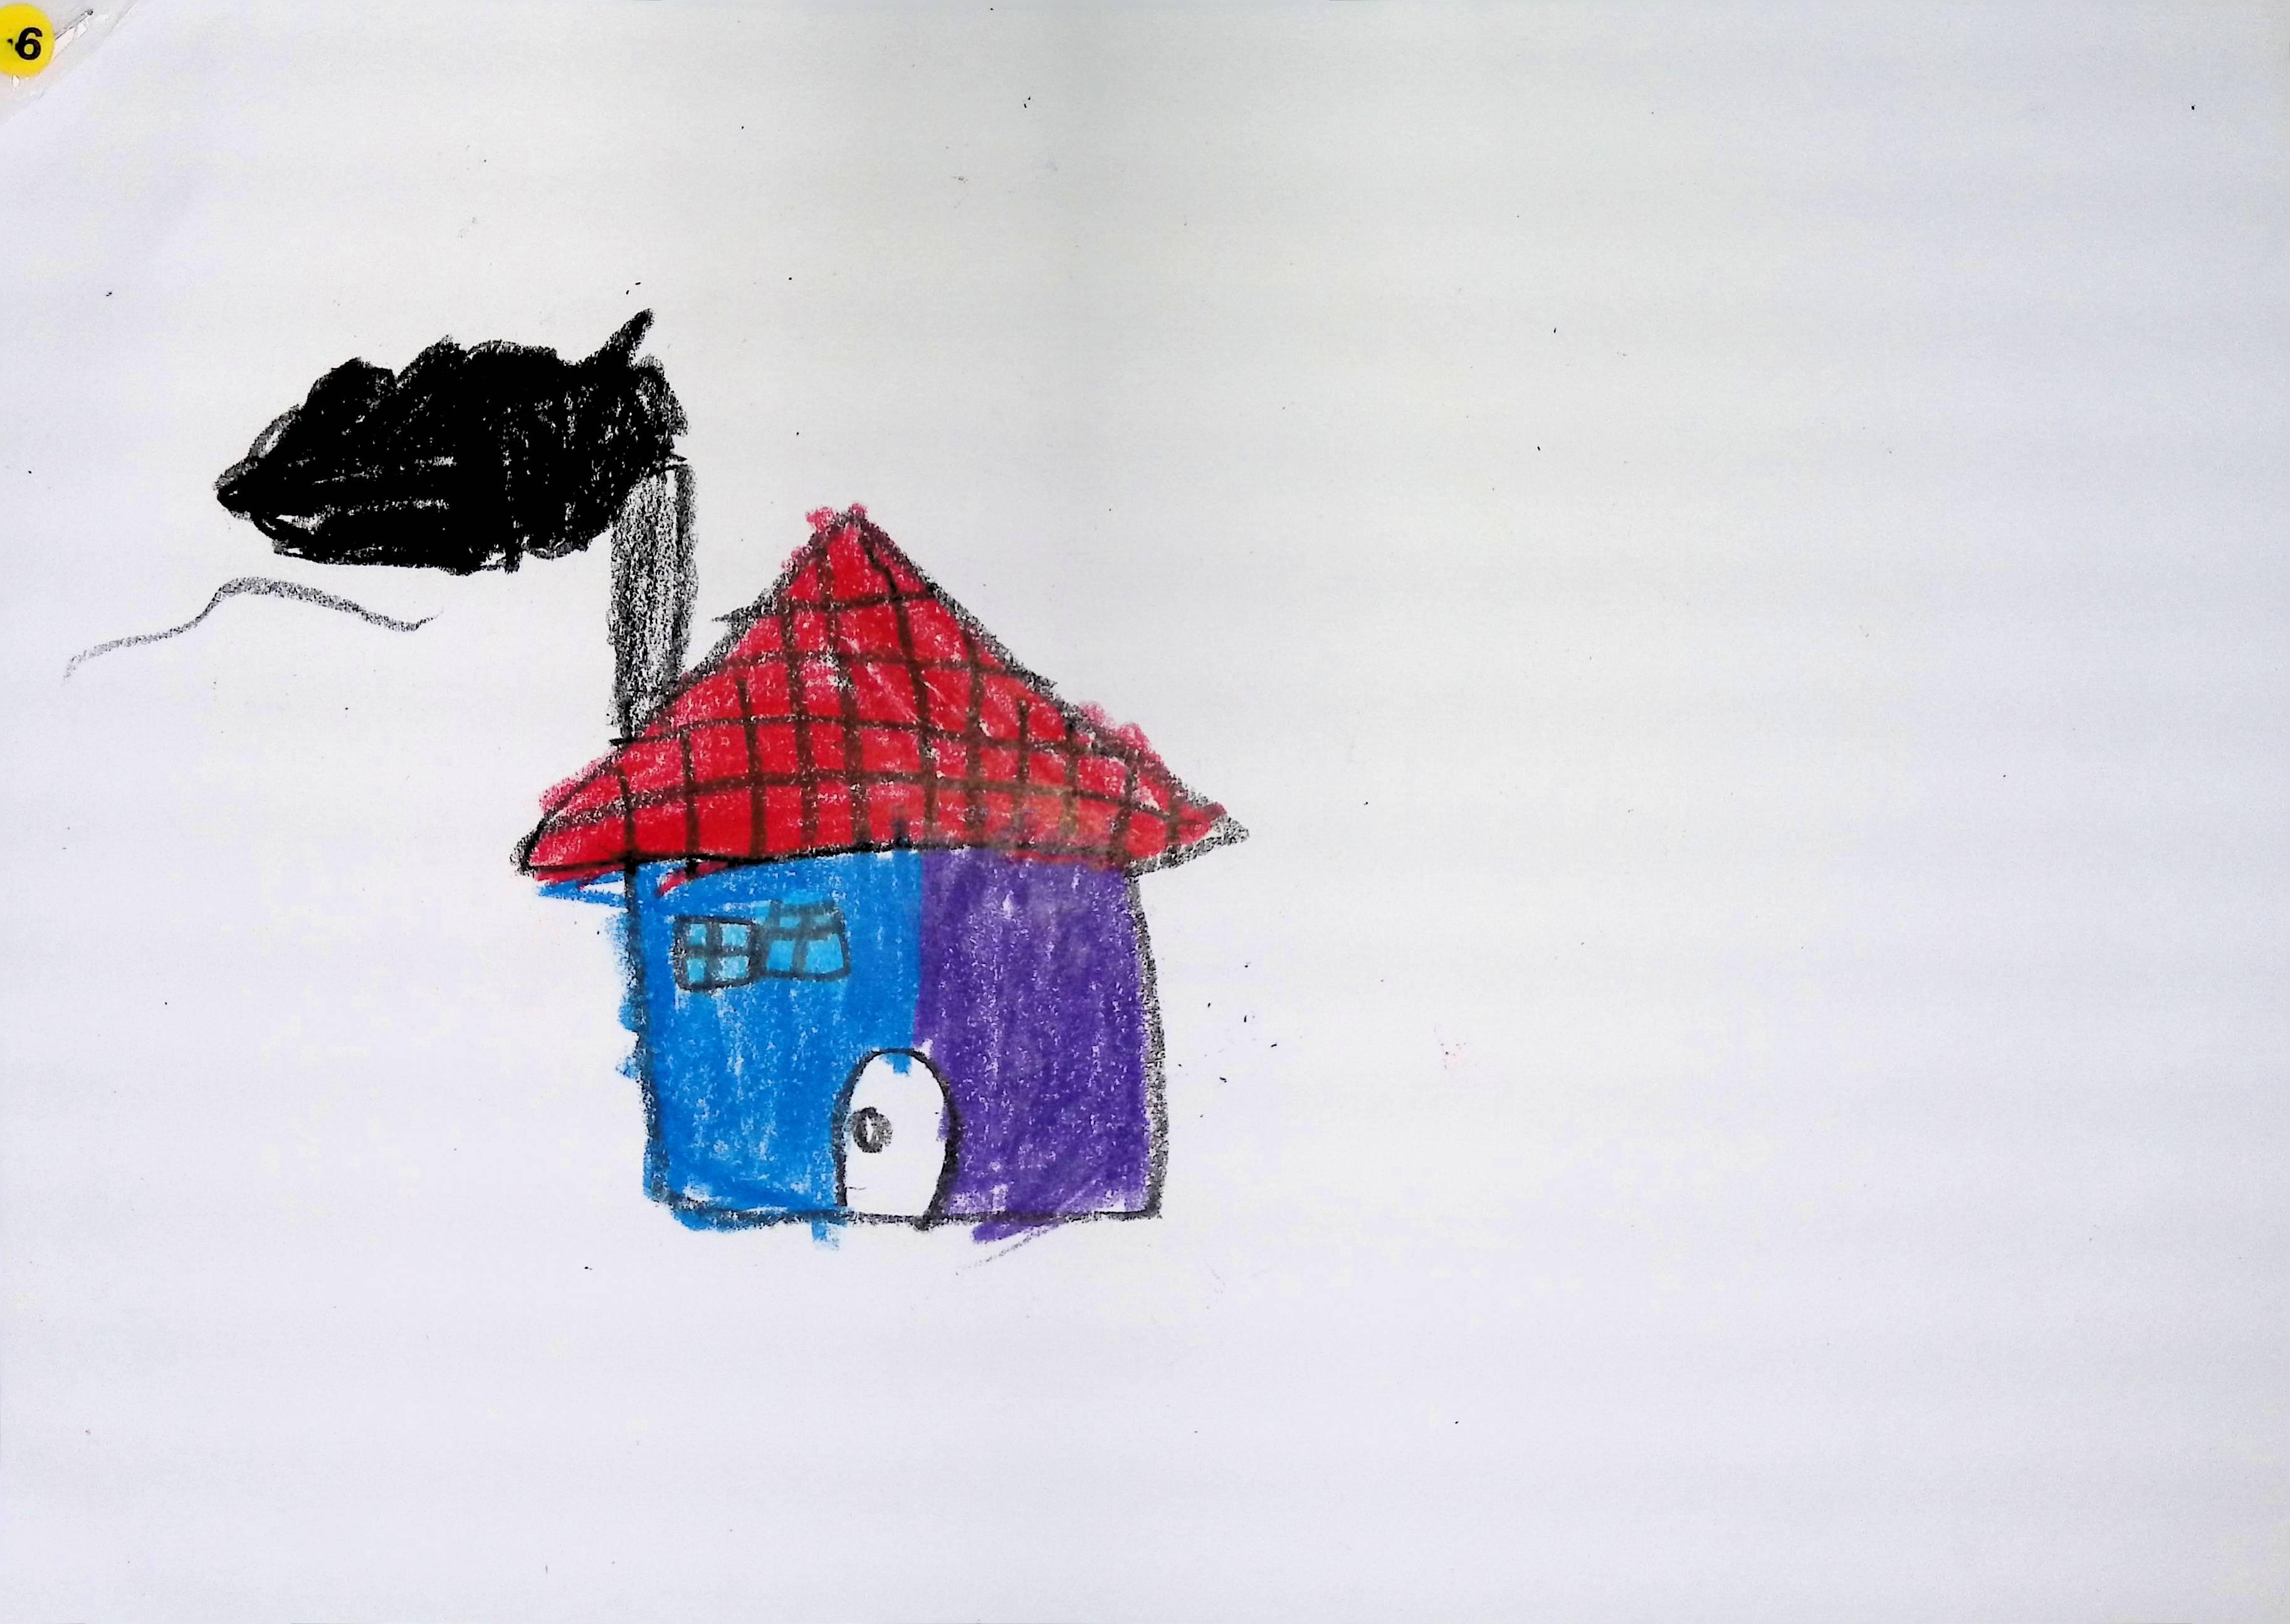chimney: (606, 455, 696, 738)
door: (835, 1049, 951, 1222)
house: (517, 457, 1241, 1234)
roof: (517, 503, 1236, 879)
wall: (626, 845, 1160, 1223)
window: (759, 898, 849, 979), (671, 914, 754, 990)
